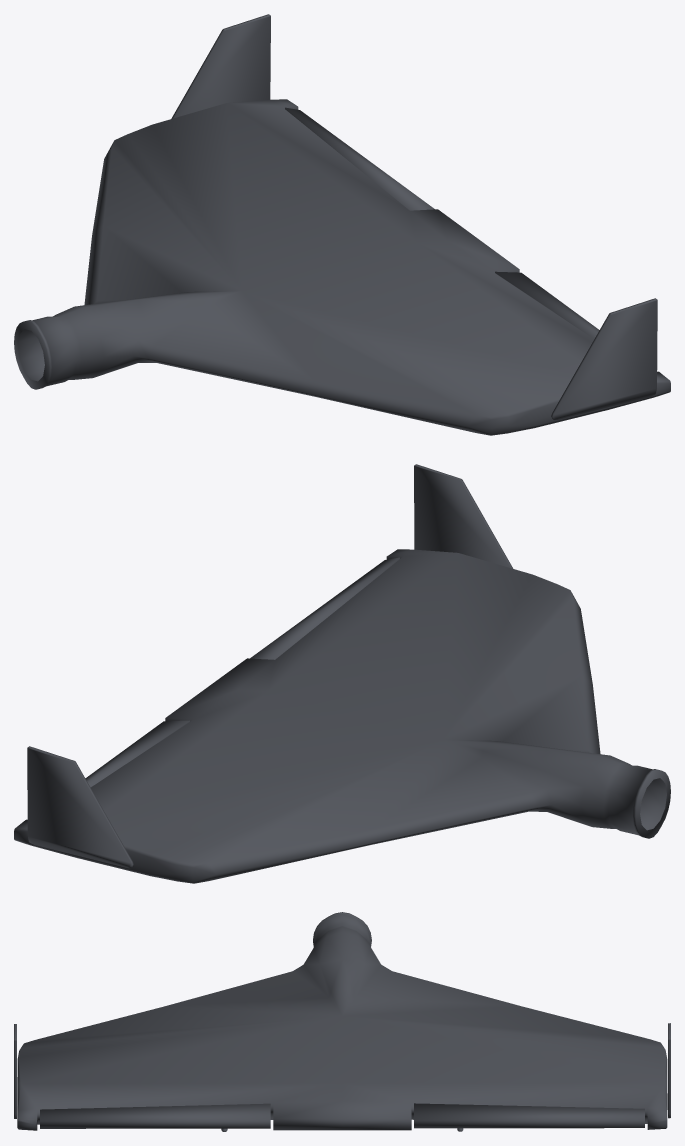
File: dron_enemy_body.glb
The picture shows the model from 3 angles, top to bottom: view 1: azimuth 30°, elevation 25°; view 2: azimuth 150°, elevation 25°; view 3: azimuth 270°, elevation 25°; orthographic projection. The views are drawn at different scales.
Visible parts, largest first — view 1: Object_2; view 2: Object_2; view 3: Object_2.
Part boxes in pixels (box(x1,y1,x2,y2)): Object_2: box(14, 14, 670, 435); Object_2: box(14, 464, 670, 883); Object_2: box(14, 912, 670, 1131).
Size of what is drawn, in the model's own units: 18.41 by 5.05 by 27.68.
1 material, 1 textured.
